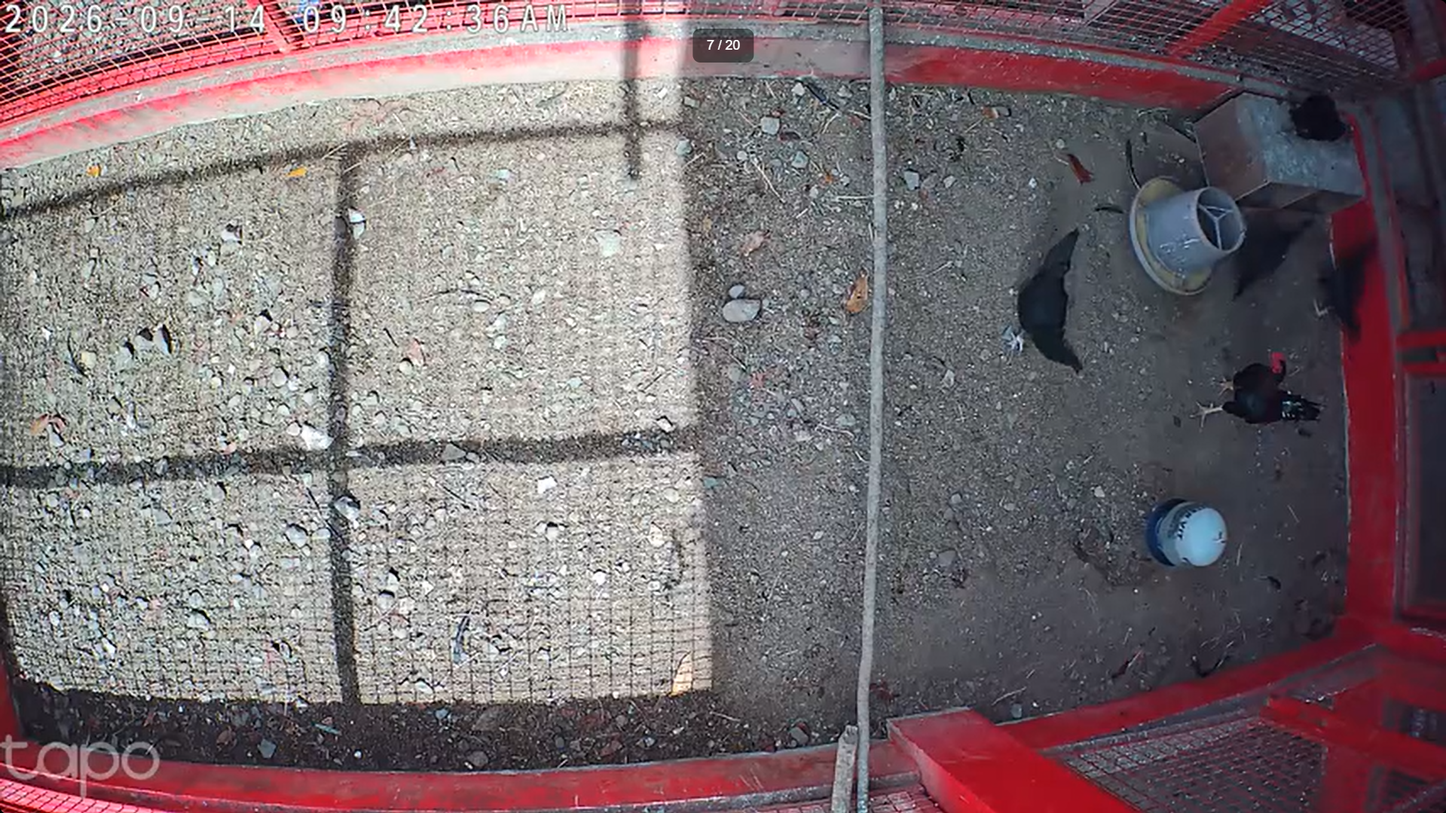Chicken: (1005, 224, 1084, 383), (1222, 210, 1319, 303), (1305, 230, 1381, 347), (1280, 81, 1363, 145)
Leg_Band_White: (1014, 331, 1025, 354)
